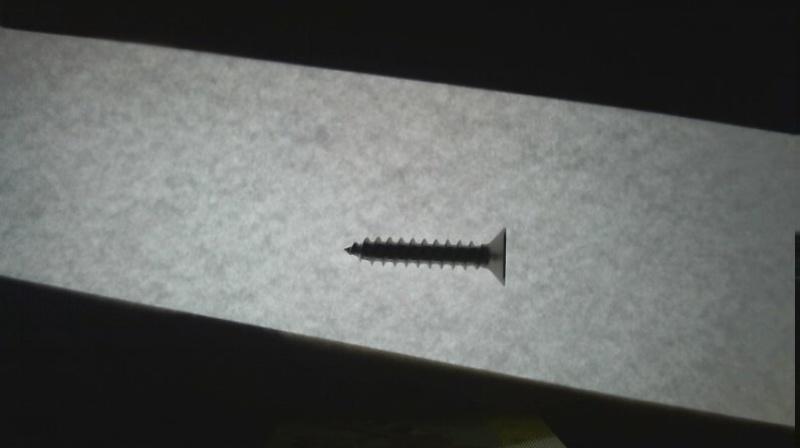S001: (342, 223, 510, 288)
